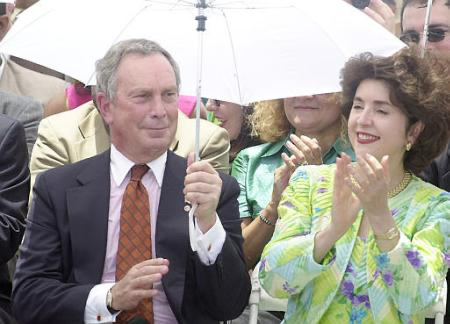Face: (105, 56, 184, 159), (347, 79, 412, 171), (402, 3, 450, 73), (198, 89, 254, 145), (286, 83, 341, 134)
